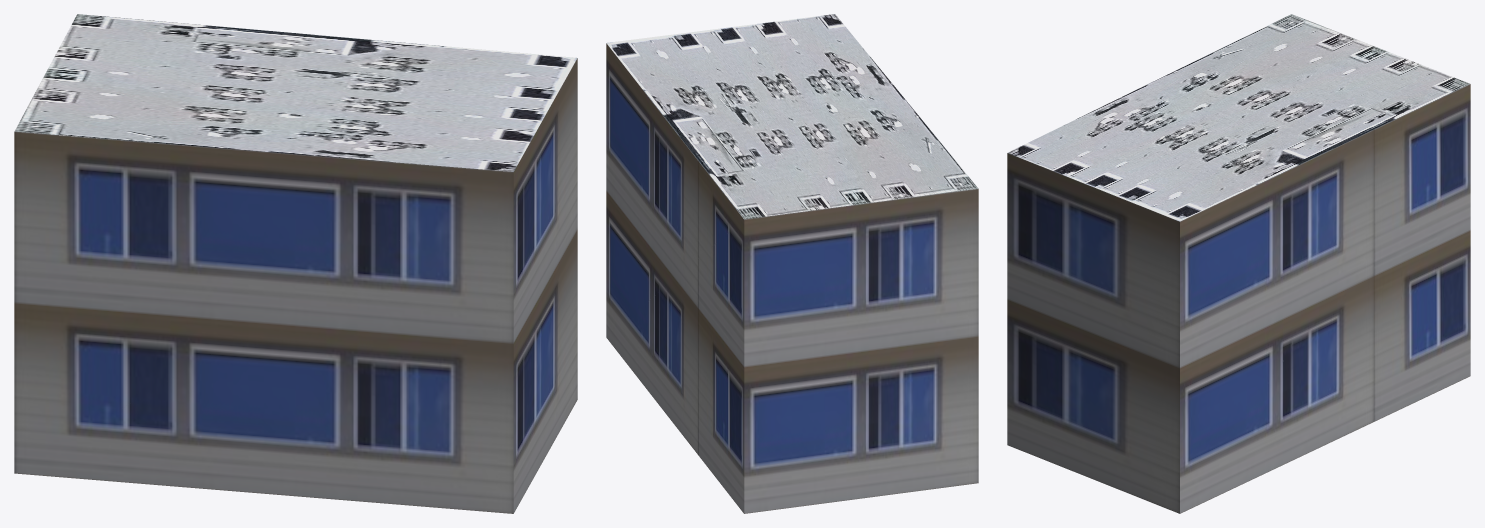
File: ResTex__507.fbx
The picture shows the model from 3 angles, left to right: view 1: azimuth 30°, elevation 25°; view 2: azimuth 150°, elevation 25°; view 3: azimuth 270°, elevation 25°; orthographic projection. The views are drawn at different scales.
Visible parts, largest first — view 1: CityEngineMaterial_23_m, CityEngineMaterial_4_m; view 2: CityEngineMaterial_23_m, CityEngineMaterial_4_m; view 3: CityEngineMaterial_23_m, CityEngineMaterial_4_m.
Boxes of the visible parts, left/top/right/bottom form: CityEngineMaterial_23_m: left=14, top=58, right=577, bottom=513; CityEngineMaterial_4_m: left=14, top=14, right=577, bottom=171; CityEngineMaterial_23_m: left=606, top=43, right=978, bottom=513; CityEngineMaterial_4_m: left=606, top=14, right=978, bottom=219; CityEngineMaterial_23_m: left=1007, top=84, right=1470, bottom=513; CityEngineMaterial_4_m: left=1008, top=14, right=1469, bottom=221.
Size of the model in its own units: 9.14 by 6 by 8.62.
2 materials, 2 textured.
